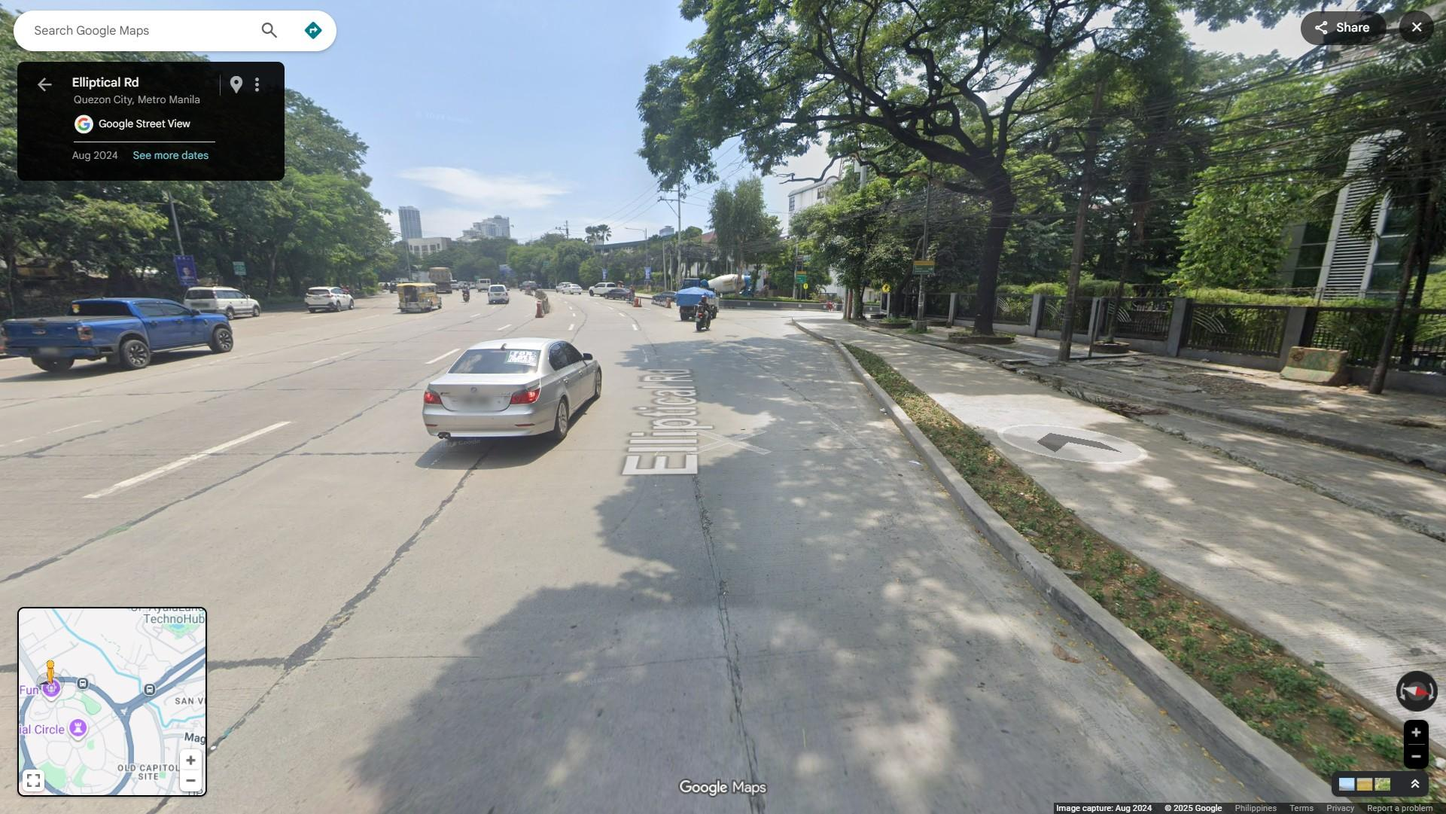cyclist: (626, 284, 635, 306)
pedestrian: (826, 301, 836, 312)
